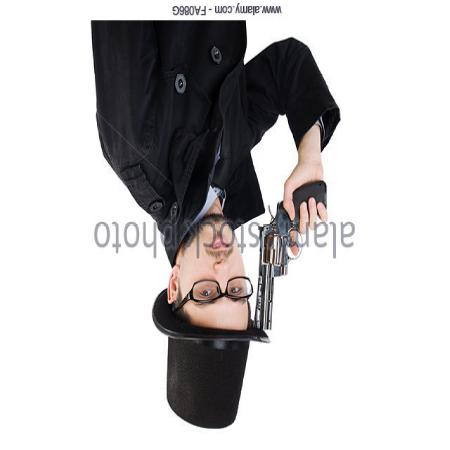Pistol: (254, 182, 330, 331)
